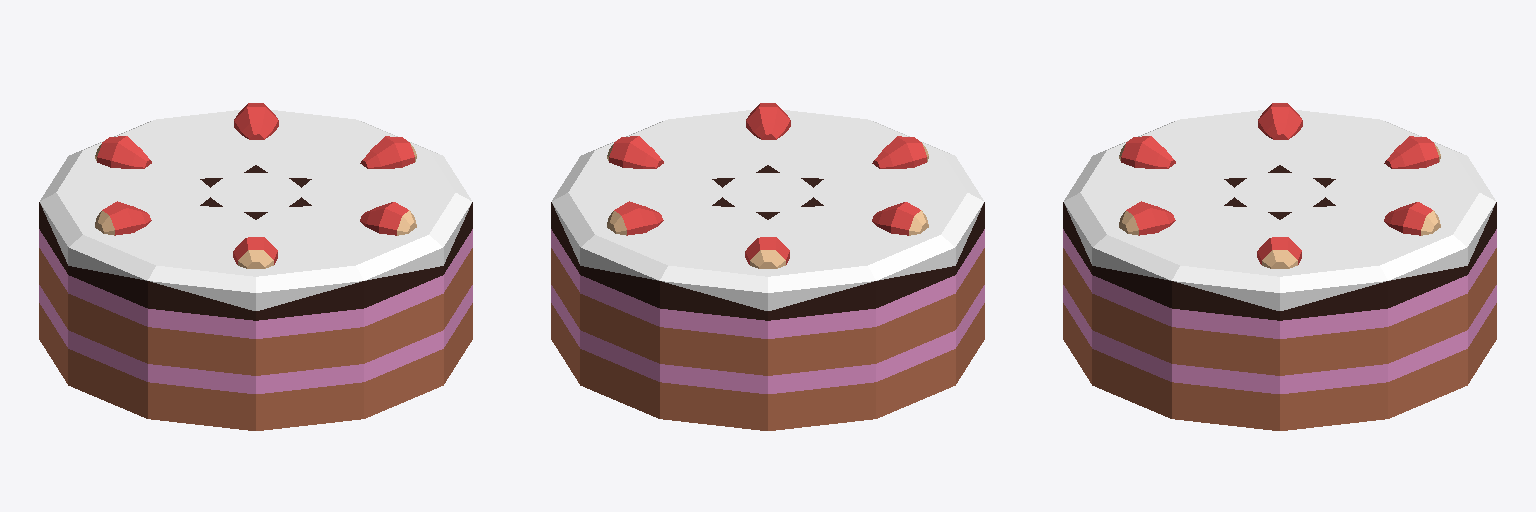
Rendered from cake.obj.
3 renders of one model, left to right at view 1: azimuth 30°, elevation 25°; view 2: azimuth 150°, elevation 25°; view 3: azimuth 270°, elevation 25°, orthographic.
Visible parts, largest first — view 1: slice; view 2: slice; view 3: slice.
Boxes of the visible parts, box(x1,y1,x2,y2) form: slice: box(39, 103, 472, 430); slice: box(551, 103, 984, 430); slice: box(1063, 103, 1496, 430).
Size of the model in its own units: 0.6392 by 0.2731 by 0.6392.